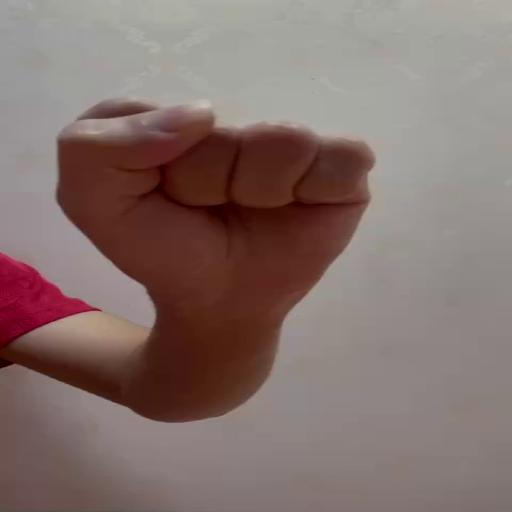fist: (55, 93, 378, 299)
